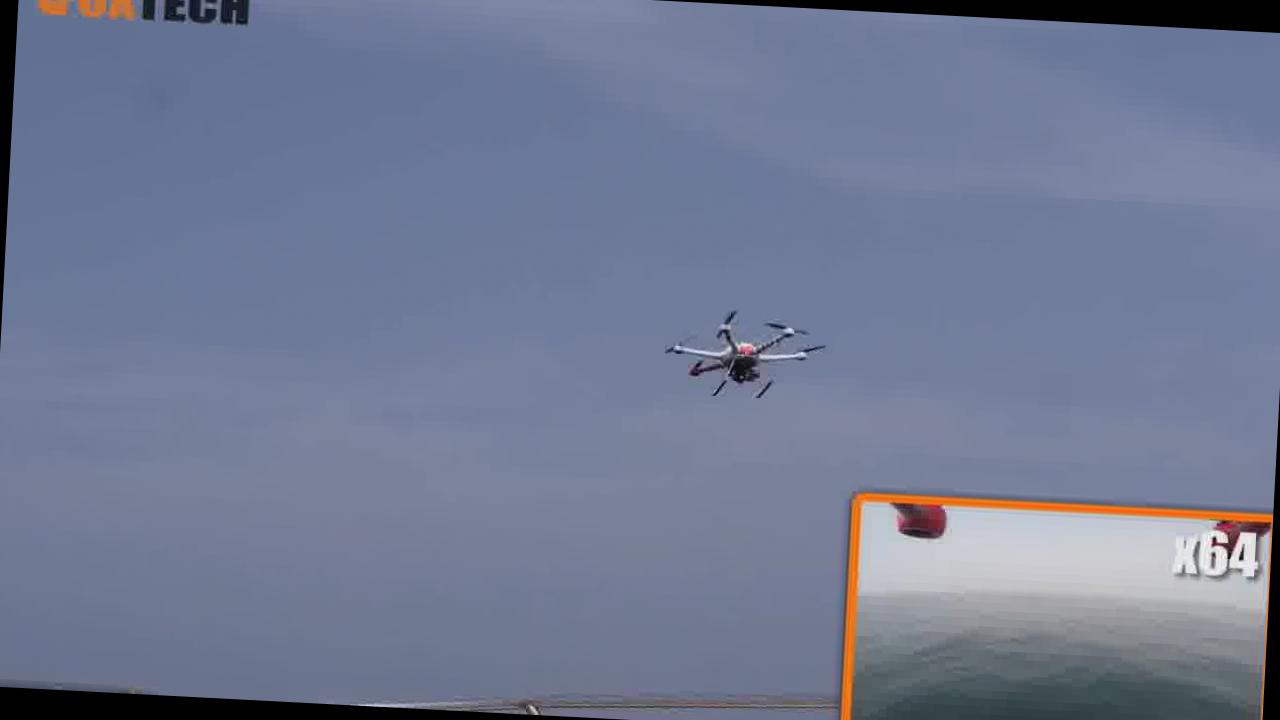drone: (644, 288, 848, 410)
